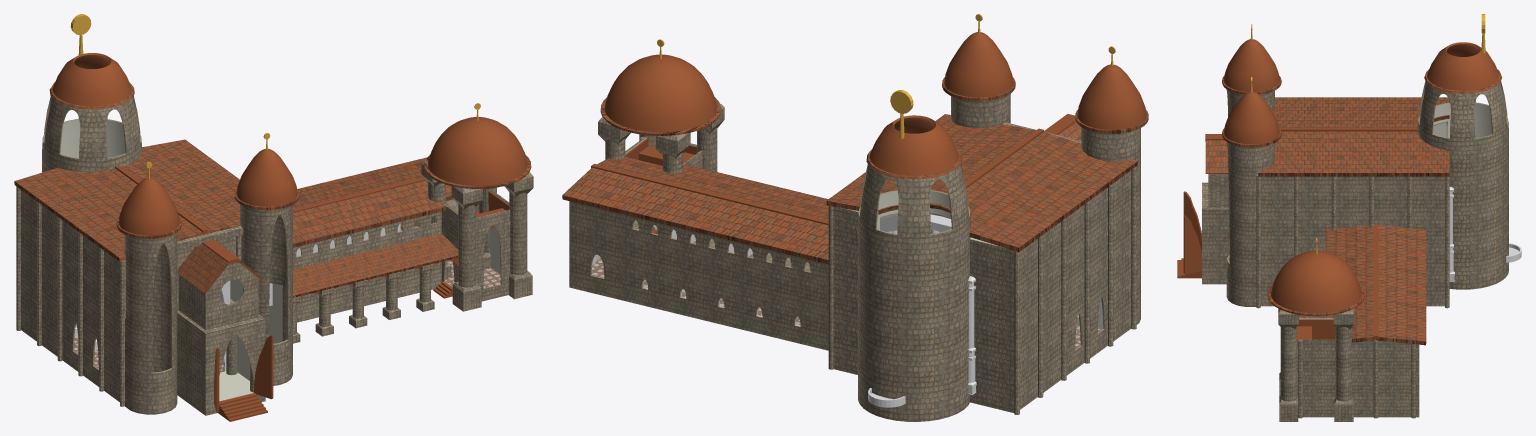
File: church_texture.glb
The picture shows the model from 3 angles, left to right: view 1: azimuth 30°, elevation 25°; view 2: azimuth 150°, elevation 25°; view 3: azimuth 270°, elevation 25°; orthographic projection. The views are drawn at different scales.
Parts seen in each view (by area): view 1: WallCandlePlace-col, Walls-col, RoofMain, WallMain-col, Roof, DormitoryPillar-col, WallSunAltar-col, WallFrontRoom-col, BellRoof, RoofCandlePlace, SubRof, MainOutsidePillar.001 (+12 smaller); view 2: Walls-col, WallSunAltar-col, WallMain-col, RoofMain, Roof, MainOutsidePillar.001, BellRoof, RoofCandlePlace, WallCandlePlace-col, SunAltarDome, DormitoryPillar-col, RoofDetail (+7 smaller); view 3: Walls-col, WallSunAltar-col, RoofMain, Roof, WallMain-col, WallCandlePlace-col, BellRoof, RoofCandlePlace, DormitoryPillar-col, SunAltarDome, MainOutsidePillar.001, WallFrontRoom-col (+11 smaller).
Part boxes in pixels (left/top/right/bottom): WallCandlePlace-col: left=124, top=204, right=292, bottom=414; Walls-col: left=21, top=190, right=282, bottom=401; RoofMain: left=14, top=139, right=240, bottom=261; WallMain-col: left=293, top=189, right=510, bottom=322; Roof: left=293, top=157, right=482, bottom=247; DormitoryPillar-col: left=421, top=160, right=533, bottom=311; WallSunAltar-col: left=42, top=95, right=142, bottom=172; WallFrontRoom-col: left=177, top=298, right=265, bottom=415; BellRoof: left=428, top=117, right=527, bottom=185; RoofCandlePlace: left=118, top=148, right=297, bottom=235; SubRof: left=293, top=233, right=458, bottom=297; MainOutsidePillar.001: left=16, top=186, right=124, bottom=406; Walls-col: left=833, top=170, right=1131, bottom=412; WallSunAltar-col: left=858, top=164, right=970, bottom=421; WallMain-col: left=569, top=137, right=828, bottom=350; RoofMain: left=826, top=114, right=1137, bottom=251; Roof: left=562, top=157, right=828, bottom=264; MainOutsidePillar.001: left=828, top=166, right=1136, bottom=414; BellRoof: left=604, top=54, right=717, bottom=132; RoofCandlePlace: left=944, top=32, right=1146, bottom=129; WallCandlePlace-col: left=951, top=94, right=1140, bottom=324; SunAltarDome: left=870, top=115, right=958, bottom=175; DormitoryPillar-col: left=598, top=103, right=724, bottom=173; RoofDetail: left=591, top=163, right=828, bottom=225; Walls-col: left=1257, top=121, right=1447, bottom=306; WallSunAltar-col: left=1417, top=81, right=1508, bottom=289; RoofMain: left=1258, top=97, right=1449, bottom=176; Roof: left=1325, top=225, right=1426, bottom=345; WallMain-col: left=1297, top=317, right=1419, bottom=417; WallCandlePlace-col: left=1226, top=89, right=1274, bottom=306; BellRoof: left=1271, top=250, right=1361, bottom=313; RoofCandlePlace: left=1224, top=39, right=1279, bottom=144; DormitoryPillar-col: left=1278, top=308, right=1354, bottom=421; SunAltarDome: left=1427, top=42, right=1499, bottom=90; MainOutsidePillar.001: left=1256, top=174, right=1449, bottom=308; WallFrontRoom-col: left=1202, top=182, right=1229, bottom=284.
Size of what is drawn, in the model's own units: 69.36 by 42.51 by 51.76.
6 materials, 3 textured.
